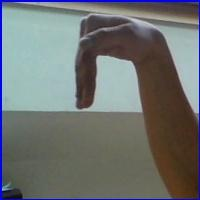del: (69, 10, 156, 118)
